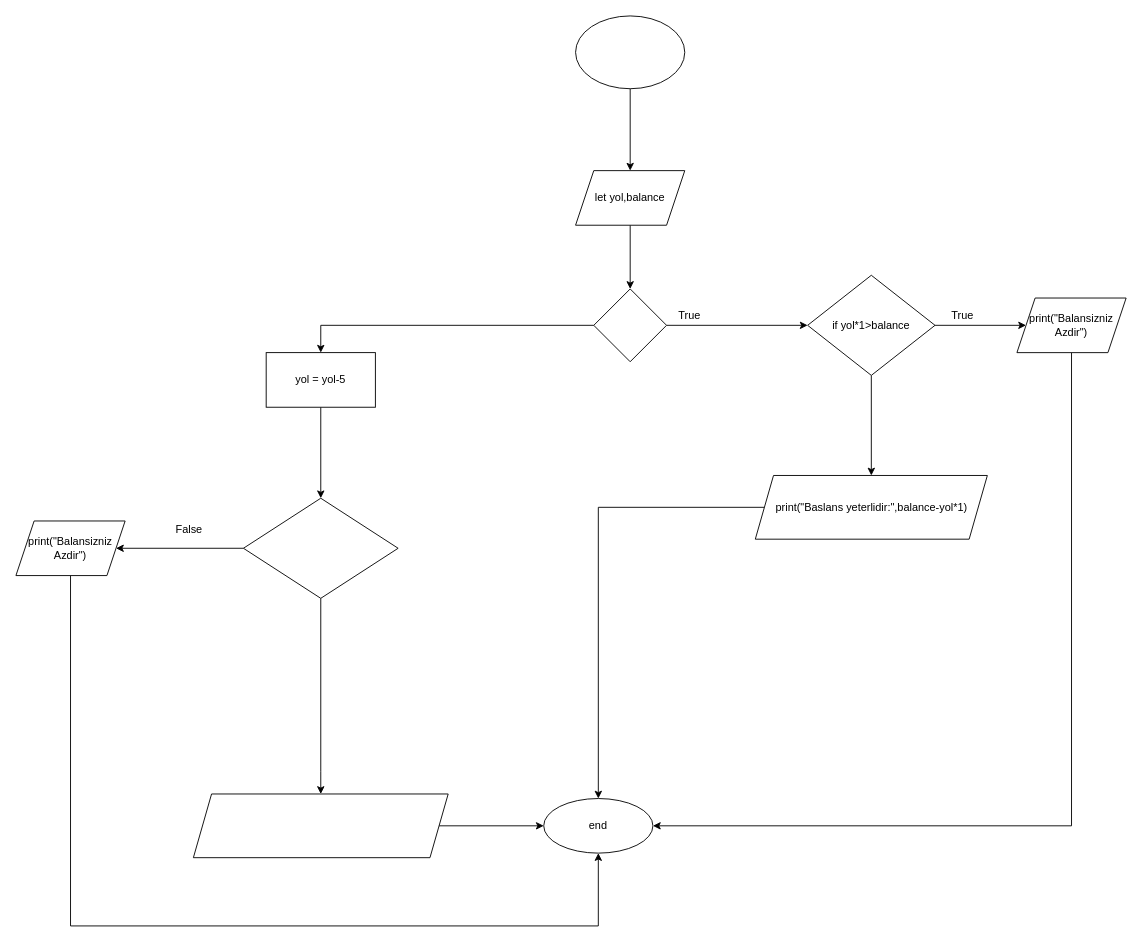
Some shapes in this 1142 by 949 pixel diagram are drawn without their labels. The centre of each missing label's shape, as x and y in pixels:
if (yol*0.7+5)>balance: pixel 320 547
if yol=<5: pixel 630 325
print("Baslans yeterlidir:",balance-(yol*0.7+5)): pixel 320 825
start: pixel 630 52
